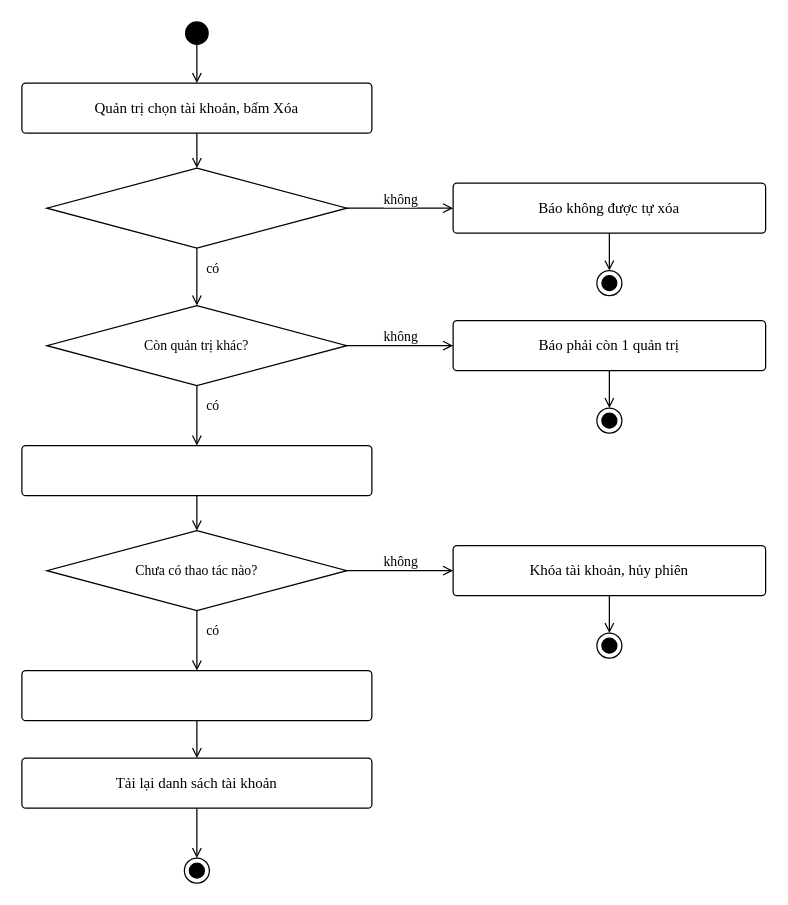
The diagram is 788 pixels wide and 905 high, and some of its shapes have lost their labels. Each missing label, with the box of its shape:
Không phải chính mình?: (46, 167, 347, 248)
Xóa hẳn tài khoản và các phiên: (21, 669, 372, 721)
Đếm thao tác trong nhật ký: (21, 444, 372, 496)
